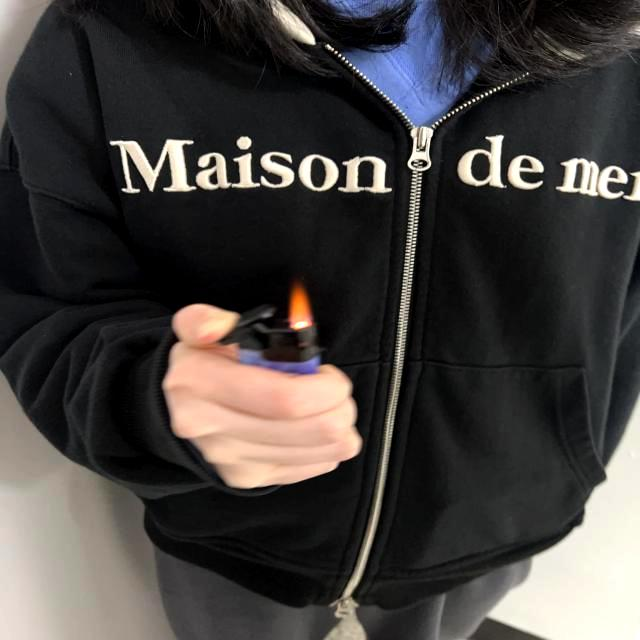fire: (286, 282, 316, 331)
